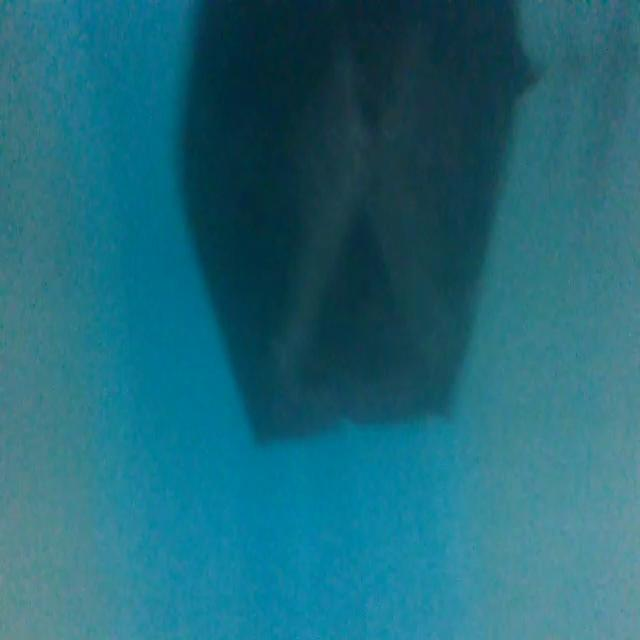plastic bags: (181, 0, 537, 445)
